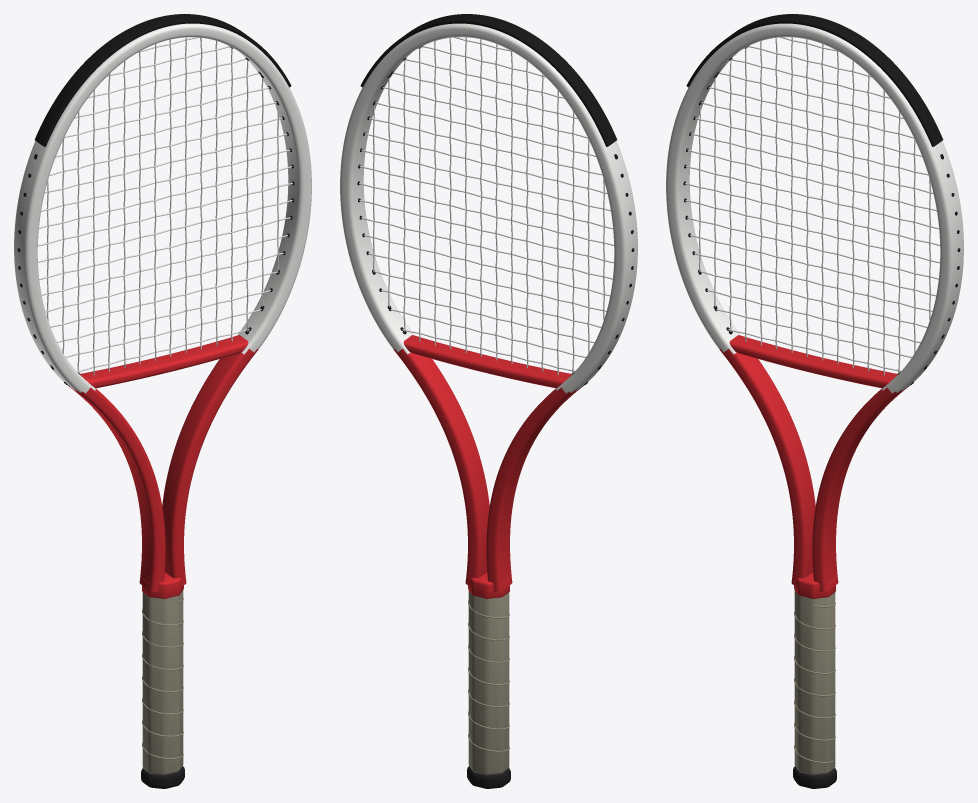
Rendered from babolat-pure-strike-98-16x19-2024.glb.
3 views of the same model, side by side, from view 1: azimuth 30°, elevation 25°; view 2: azimuth 150°, elevation 25°; view 3: azimuth 330°, elevation 25° (orthographic).
Parts seen in each view (by area): view 1: Frame, Strings, Handle, Bumper, Yoke, GripSeam, ButtCap, Collar; view 2: Frame, Strings, Handle, Bumper, Yoke, GripSeam, ButtCap, Collar; view 3: Frame, Strings, Handle, Bumper, Yoke, GripSeam, ButtCap, Collar.
Part boxes in pixels (bbox=[...]): Frame: bbox=[14, 23, 311, 591]; Strings: bbox=[38, 37, 292, 375]; Handle: bbox=[142, 590, 183, 775]; Bumper: bbox=[34, 14, 291, 146]; Yoke: bbox=[80, 335, 248, 388]; GripSeam: bbox=[142, 598, 183, 759]; ButtCap: bbox=[141, 766, 184, 788]; Collar: bbox=[142, 572, 183, 598]; Frame: bbox=[340, 23, 637, 591]; Strings: bbox=[359, 37, 613, 375]; Handle: bbox=[468, 590, 509, 775]; Bumper: bbox=[360, 14, 617, 146]; Yoke: bbox=[403, 335, 571, 388]; GripSeam: bbox=[468, 600, 509, 752]; ButtCap: bbox=[467, 766, 510, 788]; Collar: bbox=[468, 572, 509, 598]; Frame: bbox=[666, 23, 963, 591]; Strings: bbox=[685, 37, 939, 375]; Handle: bbox=[794, 590, 835, 775]; Bumper: bbox=[686, 14, 943, 146]; Yoke: bbox=[729, 335, 897, 388]; GripSeam: bbox=[794, 603, 835, 763]; ButtCap: bbox=[793, 766, 836, 788]; Collar: bbox=[794, 572, 835, 598].
Size of the model in its own units: 0.2733 by 0.6886 by 0.0327.
Materials: 6 (1 with a texture image).
